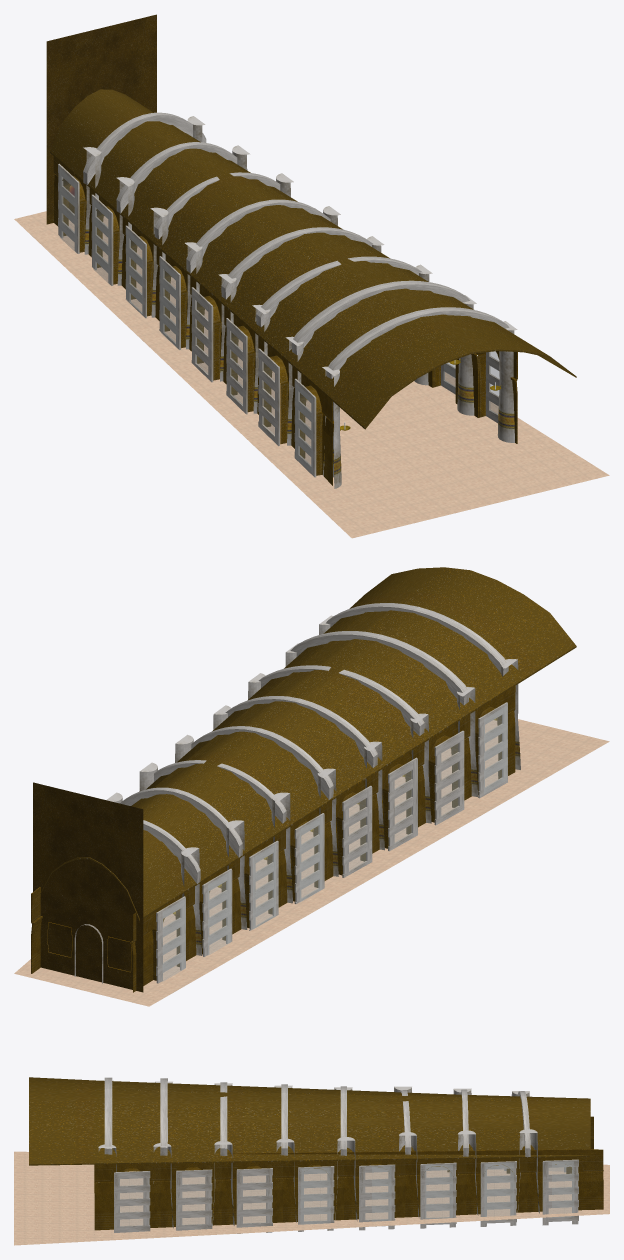
The model's file is 342_bg_sharlotteA.fbx.
3 views of the same model, one above another, from view 1: azimuth 30°, elevation 25°; view 2: azimuth 150°, elevation 25°; view 3: azimuth 270°, elevation 25° (orthographic). The views are drawn at different scales.
Visible parts, largest first — view 1: pPlane3, pPlane32, pCylinder17, pPlane31, pCube511, pCube18, pCylinder18, pCube517, pCylinder34, pCube513, pCube514, pCube512 (+10 smaller); view 2: pPlane3, pPlane32, pCylinder17, pPlane31, pPlane4, pCube511, pCube18, pPlane5, pPlane9, pPlane10, pPlane11, pPlane12 (+15 smaller); view 3: pPlane3, pCylinder18, pPlane32, pCube53 (×5), pPlane17, pPlane14, pPlane15, pPlane16, pPlane13, pCube506 (×3), pCube18, pCube511 (+14 smaller).
Part boxes in pixels (x1,y1,x2,y2): pPlane3: (50,89,576,429); pPlane32: (14,211,609,538); pCylinder17: (53,156,333,485); pPlane31: (46,14,156,149); pCube511: (291,280,470,354); pCube18: (326,307,509,379); pCylinder18: (428,351,517,443); pCube517: (83,112,206,184); pCylinder34: (497,321,517,442); pCube513: (221,227,373,299); pCube514: (186,199,330,273); pCube512: (256,256,422,327); pPlane3: (40,567,576,920); pPlane32: (14,719,609,1006); pCylinder17: (130,686,515,992); pPlane31: (33,782,143,917); pPlane4: (33,889,143,992); pCube511: (290,631,469,705); pCube18: (326,603,508,675); pPlane5: (484,706,506,793); pPlane9: (300,816,322,902); pPlane10: (253,844,275,929); pPlane11: (208,871,230,955); pPlane12: (163,899,185,981); pPlane3: (29,1077,590,1165); pCylinder18: (94,1149,603,1230); pPlane32: (14,1151,609,1245); pCube53 (×5): (176,1162,548,1233); pPlane17: (301,1168,330,1224); pPlane14: (484,1163,513,1216); pPlane15: (425,1165,452,1218); pPlane16: (365,1166,391,1221); pPlane13: (549,1161,573,1217); pCube506 (×3): (327,1162,516,1230); pCube18: (104,1077,112,1154); pCube511: (160,1078,167,1155).
Size of the model in its own units: 2507 by 1845 by 6719.
